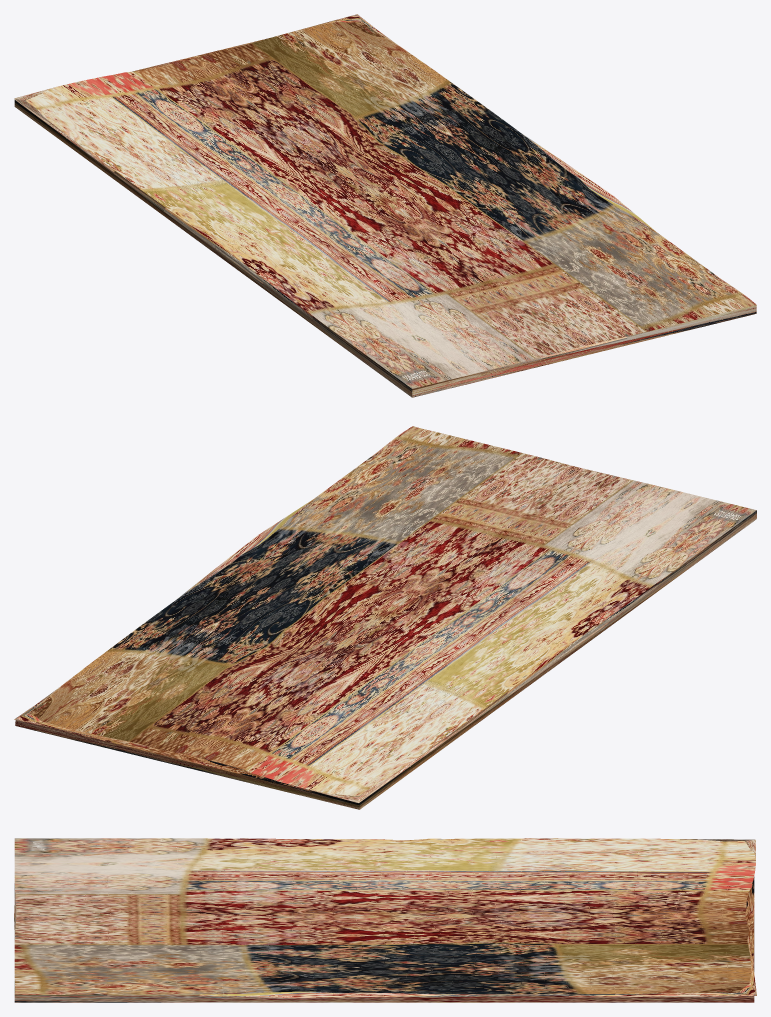
Rendered from ковёр.fbx.
3 views of the same model, one above another, from view 1: azimuth 30°, elevation 25°; view 2: azimuth 150°, elevation 25°; view 3: azimuth 270°, elevation 25° (orthographic). The views are drawn at different scales.
Visible parts, largest first — view 1: Cube; view 2: Cube; view 3: Cube.
Part boxes in pixels (<box>): Cube: <box>14,14,756,397</box>; Cube: <box>14,426,756,809</box>; Cube: <box>14,838,756,1002</box>.
Bounding box in the file's own units: 102 × 2.69 × 201.
Materials: 1 (1 with a texture image).
